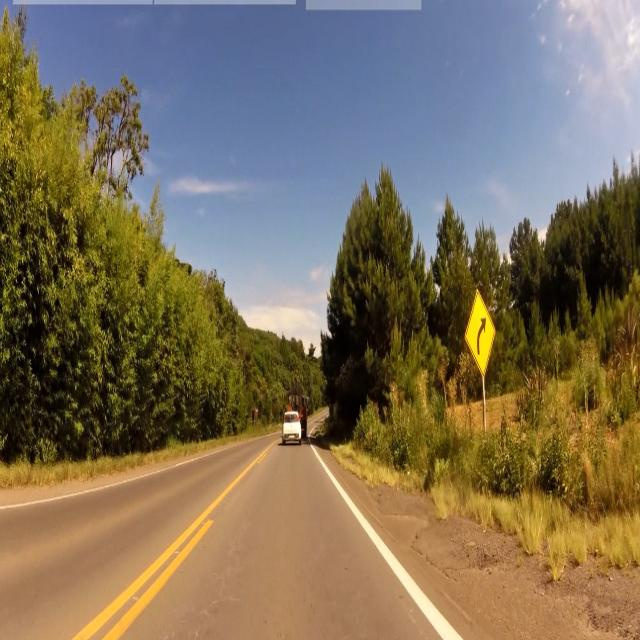A-2b: (466, 289, 496, 375)
